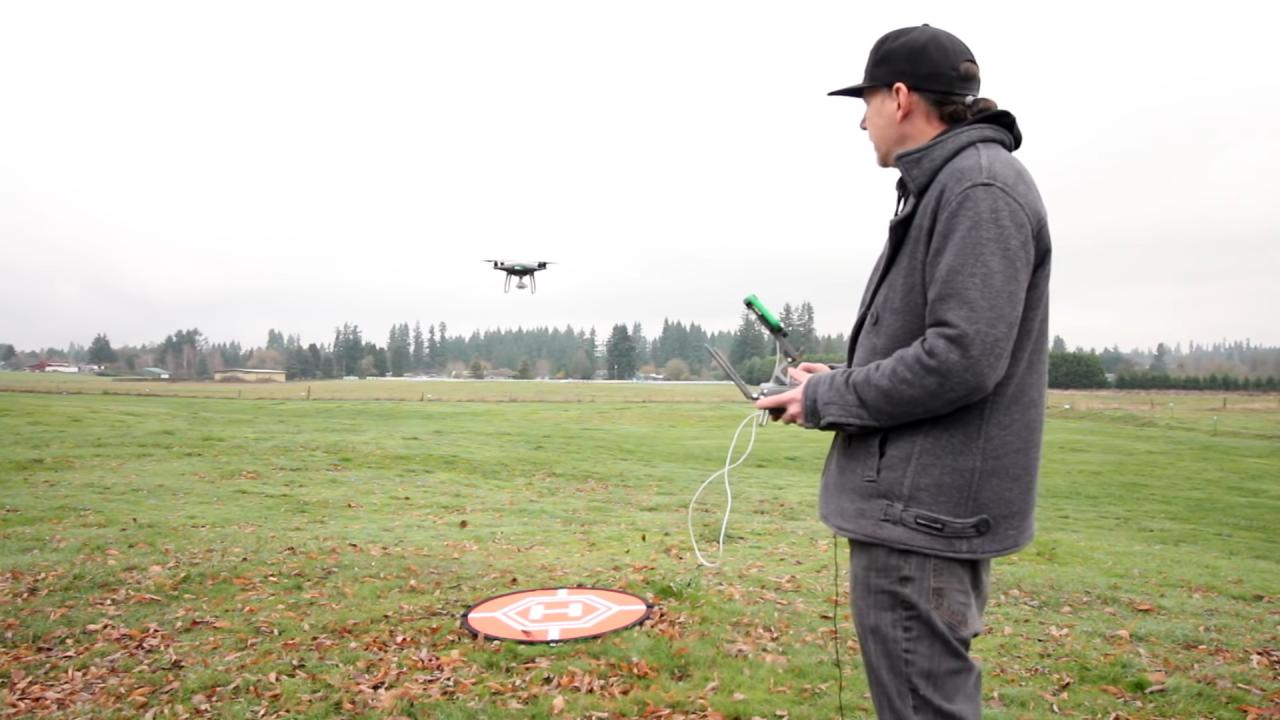Drone: (467, 251, 557, 308)
